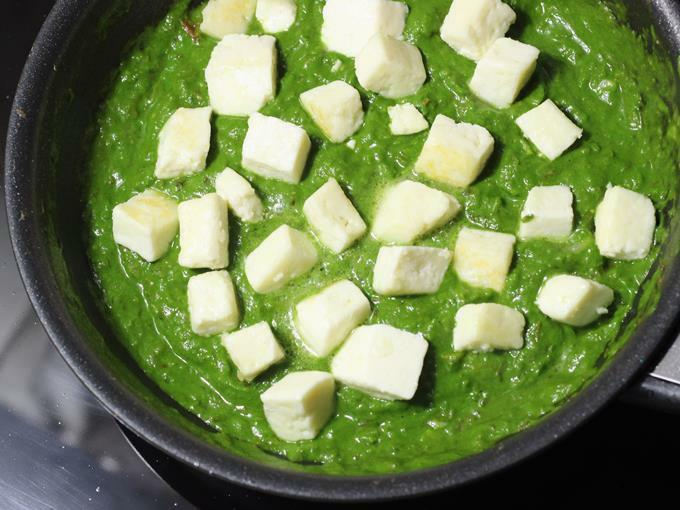PalakPaneer: (70, 0, 680, 479)
